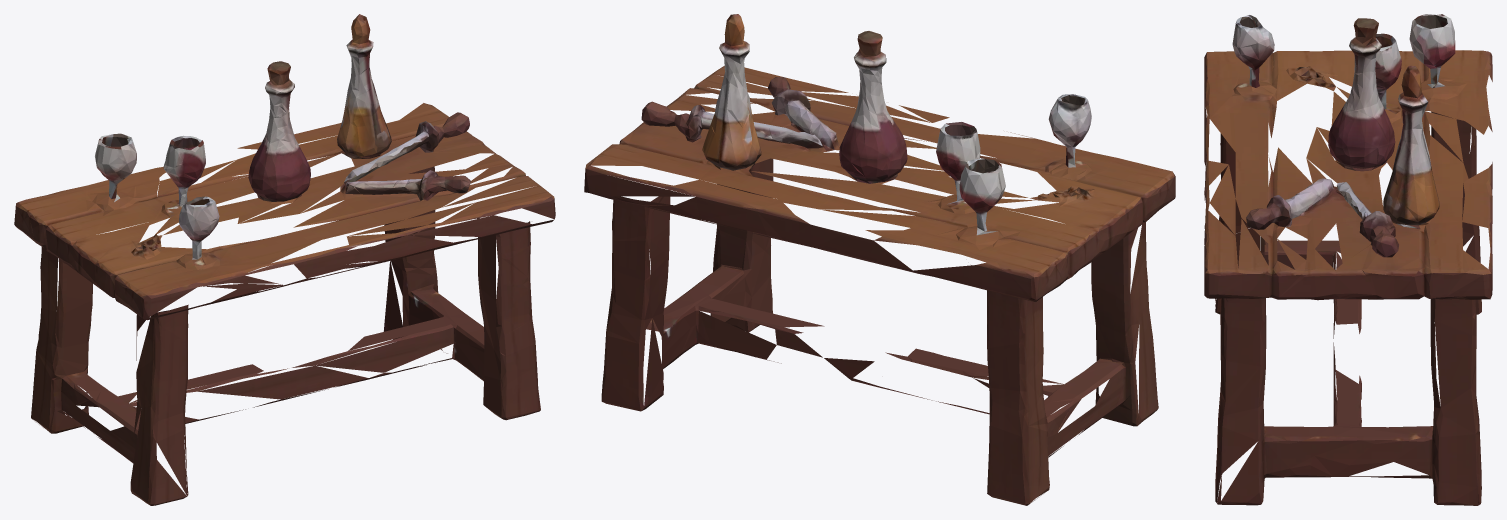
Rendered from tasting_table.glb.
The picture shows the model from 3 angles, left to right: view 1: azimuth 30°, elevation 25°; view 2: azimuth 150°, elevation 25°; view 3: azimuth 270°, elevation 25°; orthographic projection. The views are drawn at different scales.
Visible parts, largest first — view 1: geometry_0; view 2: geometry_0; view 3: geometry_0.
Part boxes in pixels (x1,y1,x2,y2): geometry_0: [14, 14, 555, 505]; geometry_0: [584, 14, 1175, 505]; geometry_0: [1204, 14, 1492, 505].
Size of the model in its own units: 2 by 1.63 by 1.09.
Materials: 1 (1 with a texture image).
